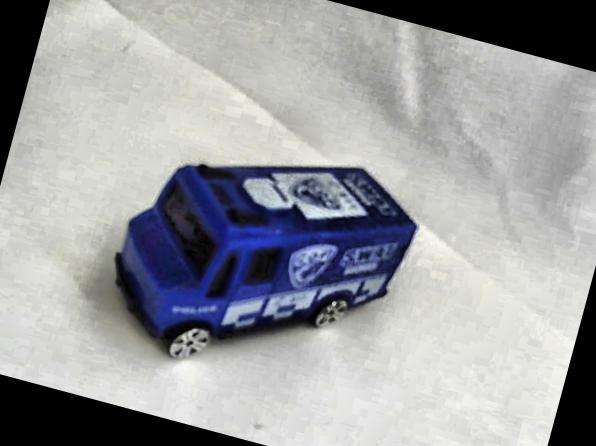police car: (86, 110, 430, 412)
